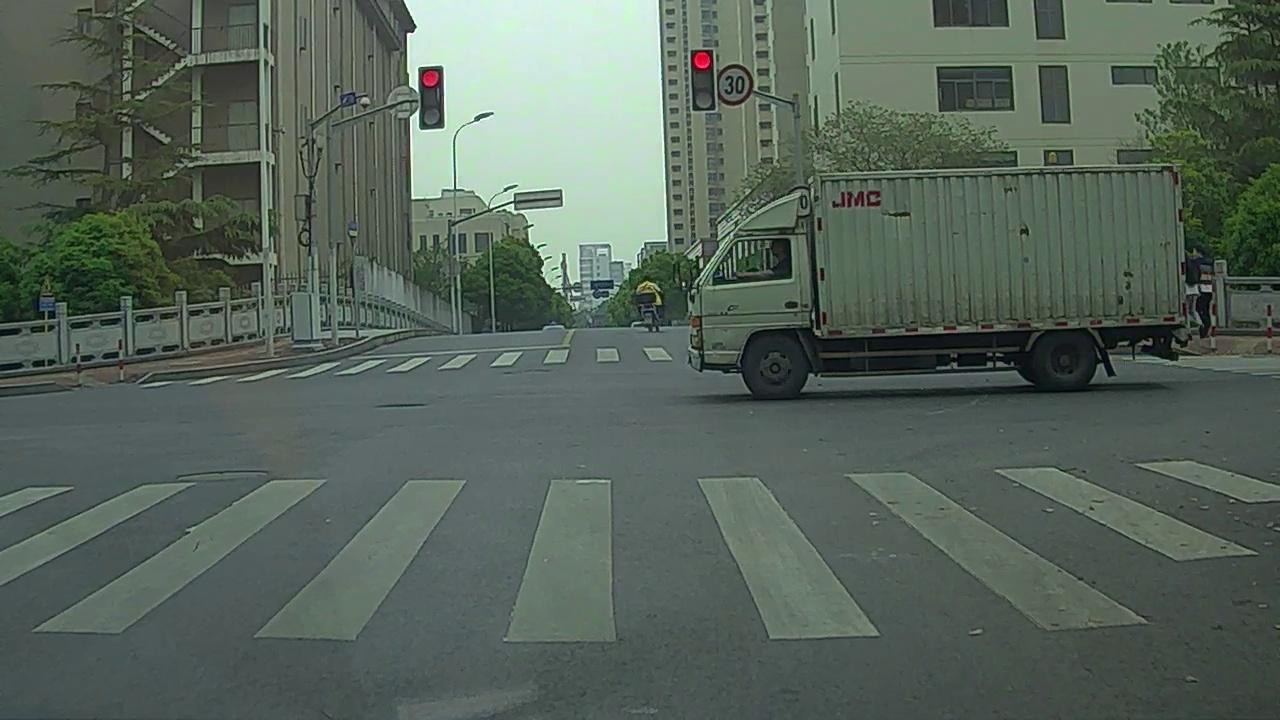traffic_light: (692, 51, 714, 110), (423, 67, 444, 127)
